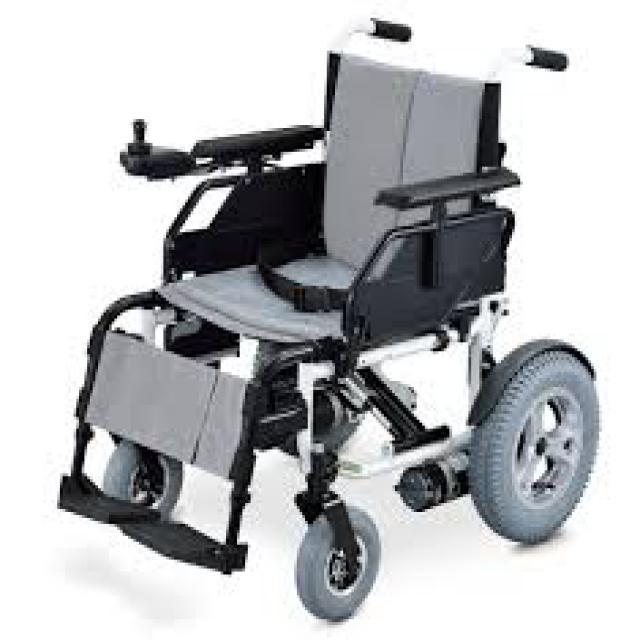wheelchair: (48, 12, 608, 631)
